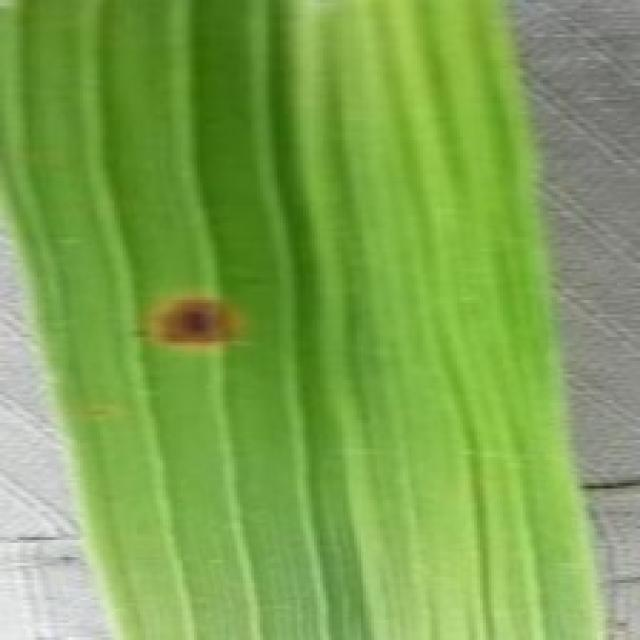Rice___Brown_Spot: (0, 0, 611, 637)
